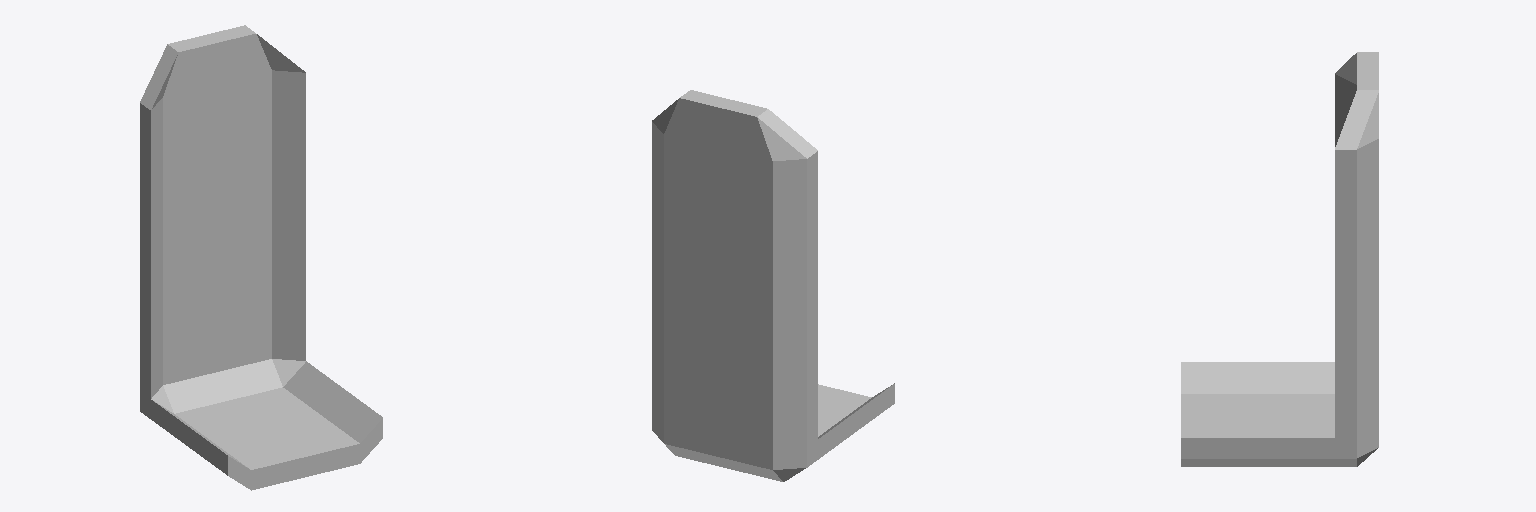
Rendered from Chair.obj.
3 views of the same model, side by side, from view 1: azimuth 30°, elevation 25°; view 2: azimuth 150°, elevation 25°; view 3: azimuth 270°, elevation 25° (orthographic).
Parts seen in each view (by area): view 1: Cockpit_inside_Cube; view 2: Cockpit_inside_Cube; view 3: Cockpit_inside_Cube.
Part boxes in pixels (left/top/right/bottom): Cockpit_inside_Cube: left=140, top=25, right=382, bottom=490; Cockpit_inside_Cube: left=652, top=90, right=894, bottom=481; Cockpit_inside_Cube: left=1181, top=52, right=1378, bottom=466.
Bounding box in the file's own units: 0.4 × 0.9089 × 0.443.